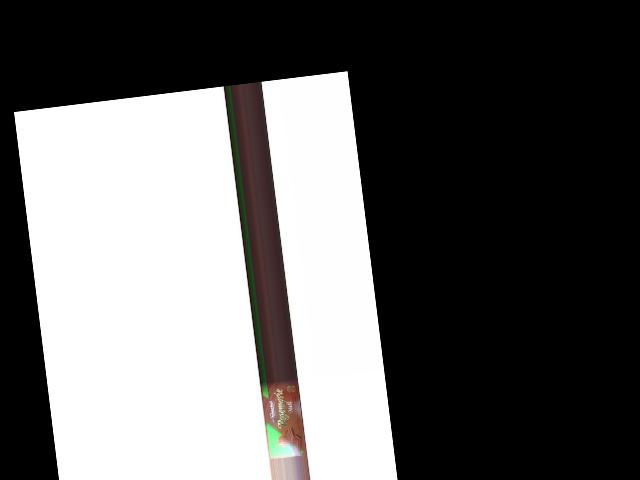chocolate: (261, 377, 306, 458)
